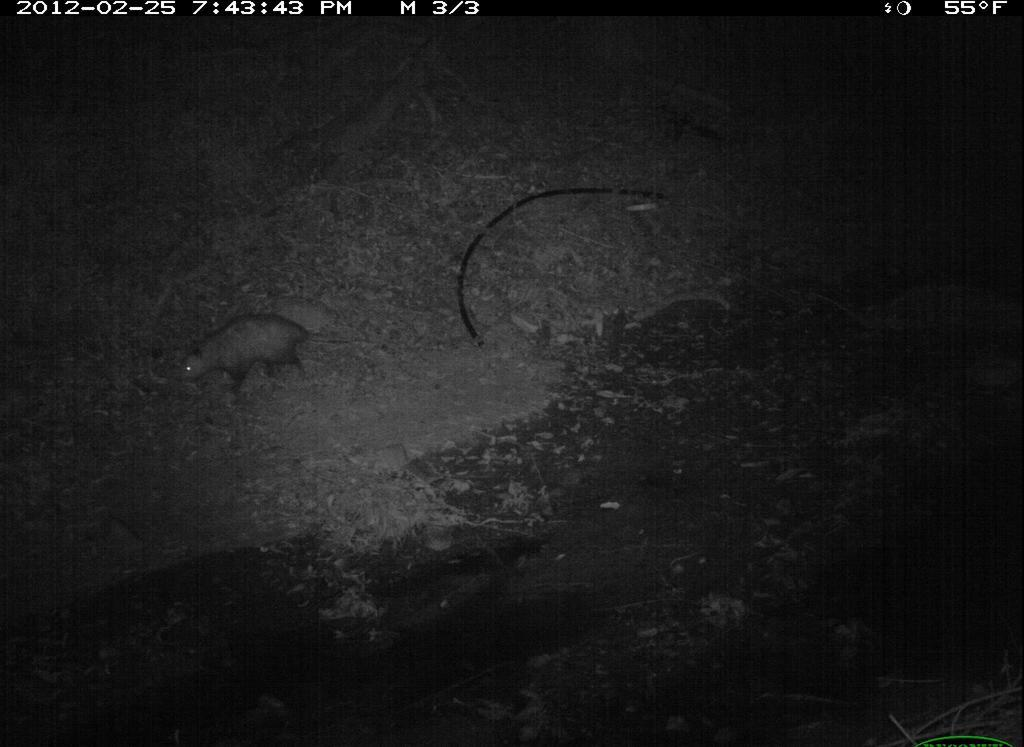opossum: (168, 308, 364, 402)
